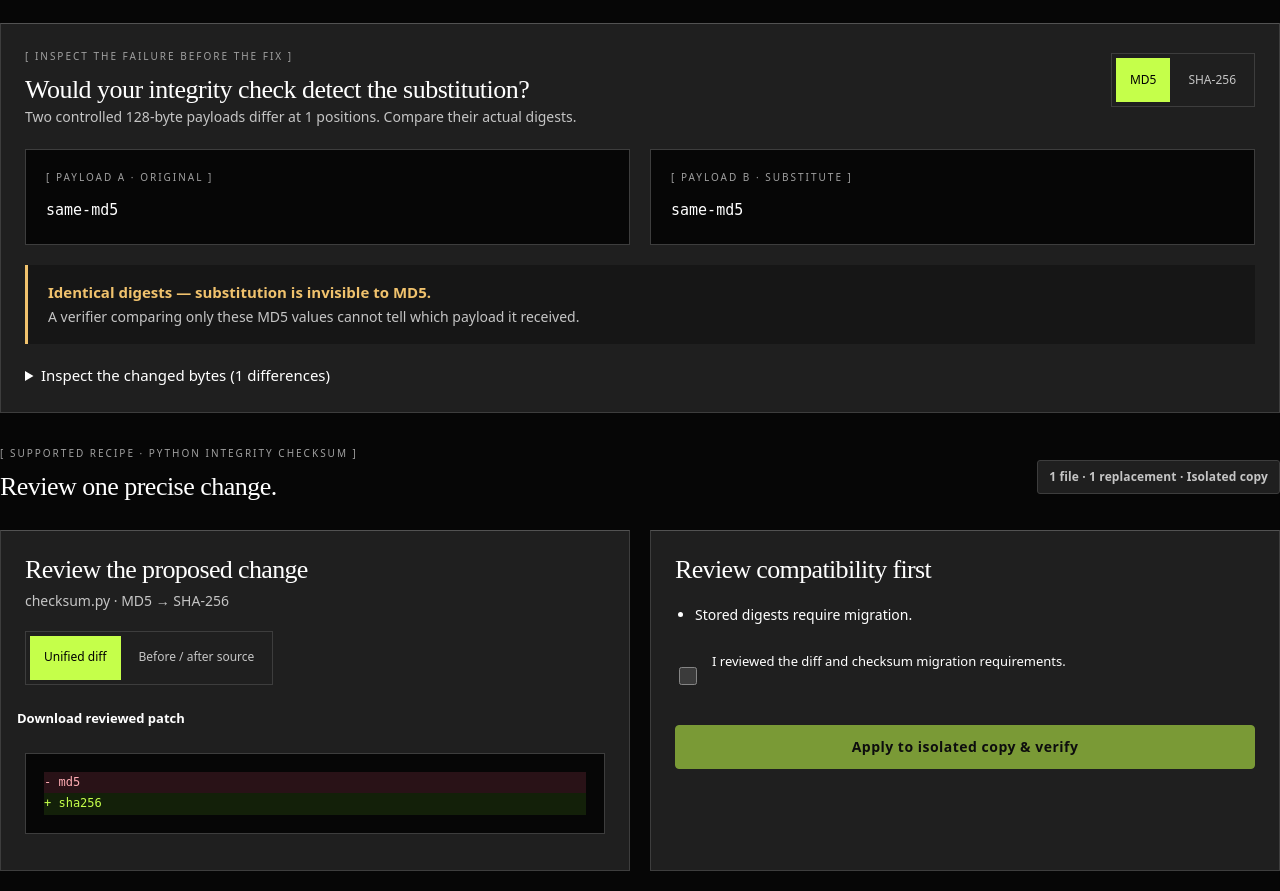
Test: RemediationLab › requires review and never claims success when verification fails
The width and height of the screenshot is (1280, 891).
(page scrolled)
expect the button "Apply to isolated copy & verify" is disabled: met, box [675, 725, 1255, 769]
Click the checkbox.
click(688, 676)  # box [679, 654, 697, 698]
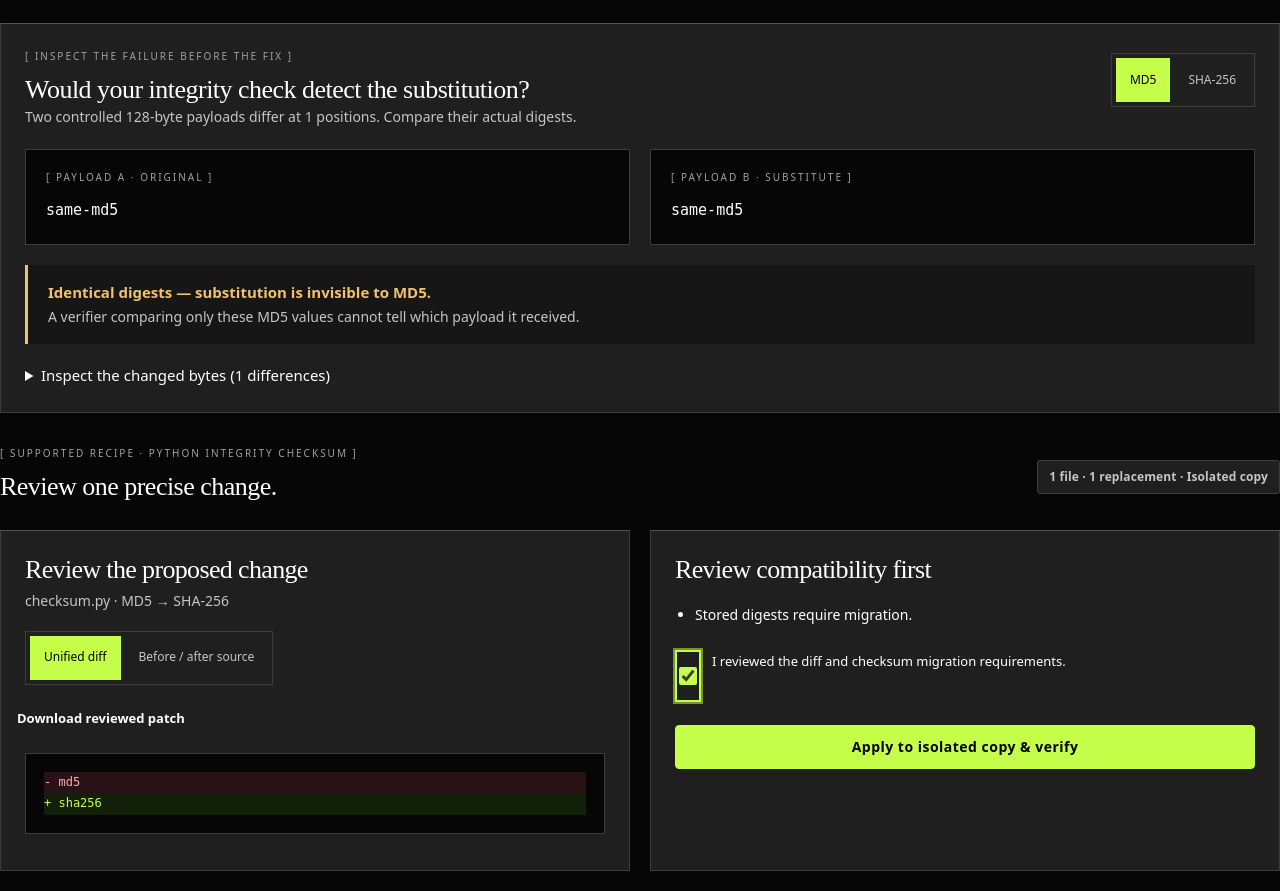
Click the button "Apply to isolated copy & verify".
click(965, 747)  # box [675, 725, 1255, 769]
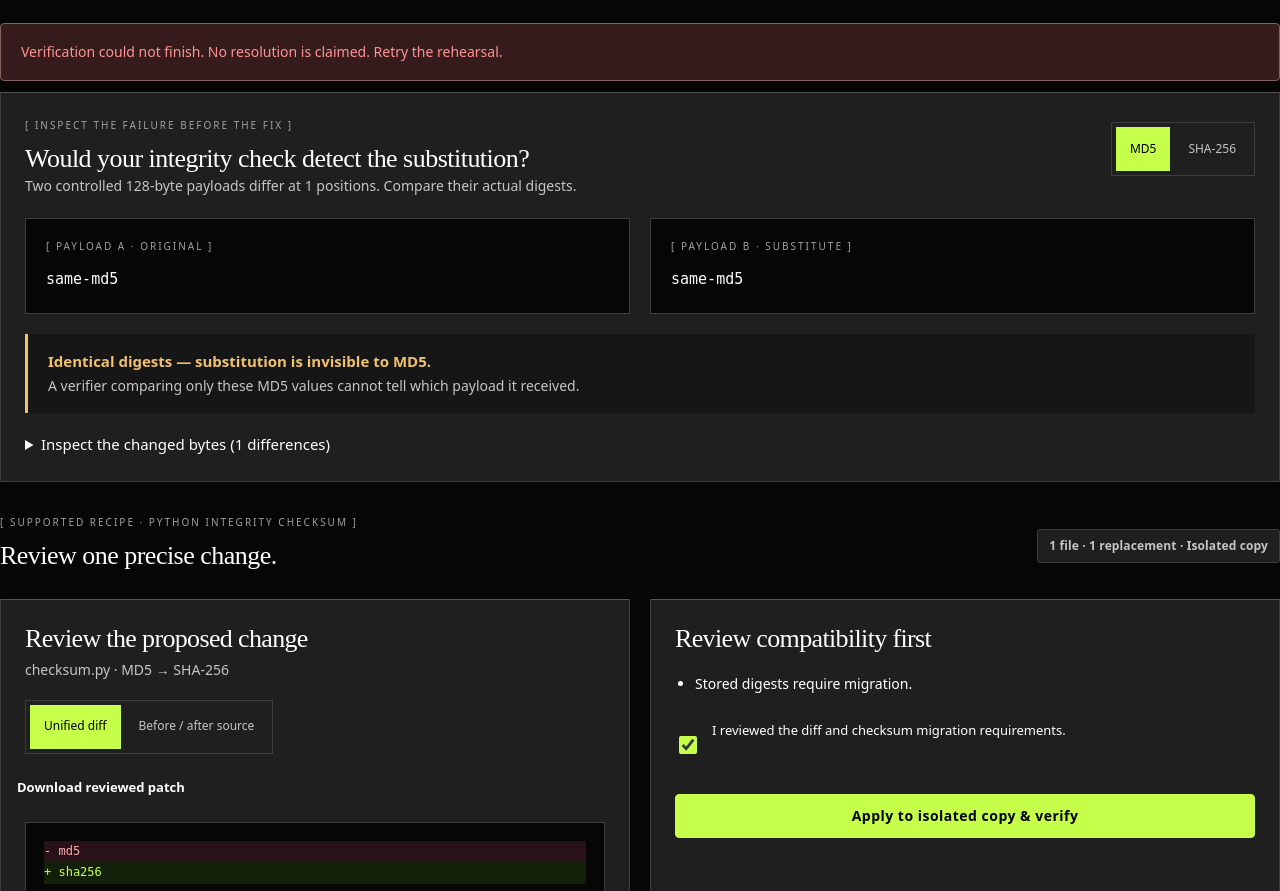
expect the button "Apply to isolated copy & verify" is enabled: met, box [675, 794, 1255, 838]
expect the message "Verification could not finish. No resolution is claimed. Retry the rehearsal." is shown: met, box [0, 23, 1279, 81]
